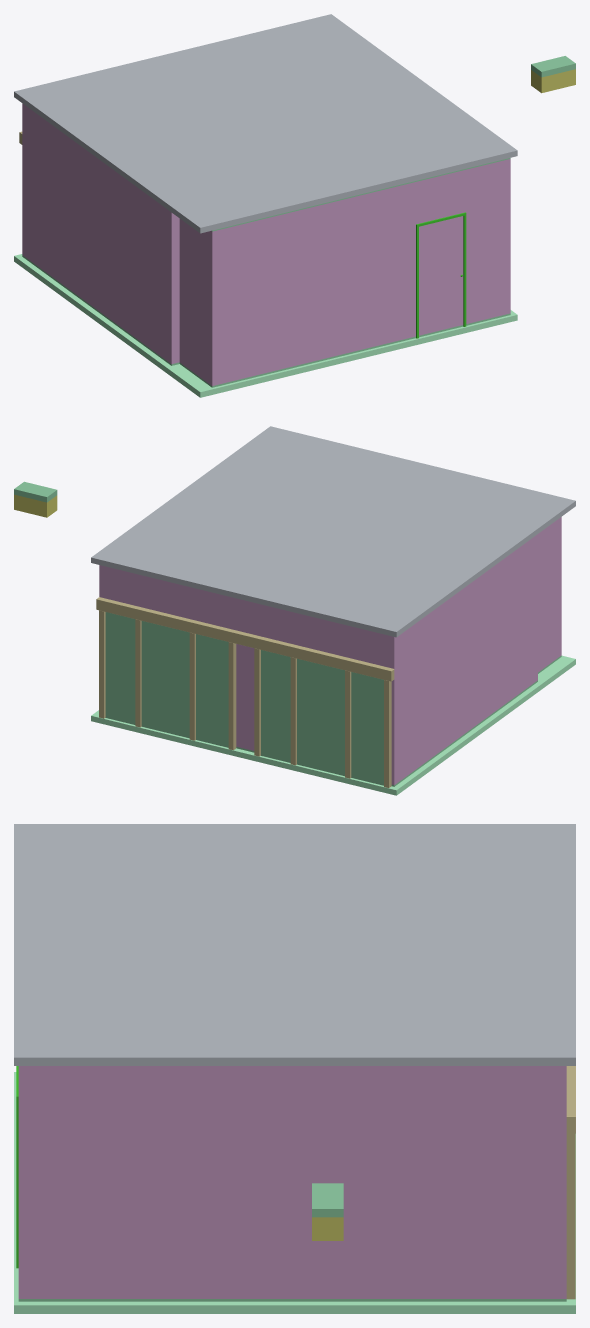
Rendered from FloorPlan10_physics.fbx.
3 renders of one model, top to bottom at view 1: azimuth 30°, elevation 25°; view 2: azimuth 150°, elevation 25°; view 3: azimuth 270°, elevation 25°, orthographic. The views are drawn at different scales.
Parts seen in each view (by area): view 1: Walls, Ceiling, Floor, StandardUpperCabinetWindow, StandardDoorFrame1; view 2: Ceiling, Walls, WindowStructure, WindowGlass5, WindowGlass2, Floor, WindowGlass1, WindowGlass4, WindowGlass6, WindowGlass3, StandardUpperCabinetWindow; view 3: Ceiling, Walls, Floor, WindowStructure, StandardUpperCabinetWindow.
Part boxes in pixels (x1=…): Walls: x1=22, y1=103, x2=510, y2=387; Ceiling: x1=14, y1=14, x2=517, y2=233; Floor: x1=14, y1=254, x2=517, y2=397; StandardUpperCabinetWindow: x1=531, y1=56, x2=575, y2=93; StandardDoorFrame1: x1=416, y1=212, x2=466, y2=338; Ceiling: x1=91, y1=426, x2=575, y2=637; Walls: x1=99, y1=517, x2=561, y2=786; WindowStructure: x1=96, y1=597, x2=394, y2=787; WindowGlass5: x1=141, y1=621, x2=189, y2=738; WindowGlass2: x1=297, y1=658, x2=344, y2=776; Floor: x1=91, y1=655, x2=575, y2=795; WindowGlass1: x1=351, y1=672, x2=383, y2=785; WindowGlass4: x1=196, y1=634, x2=228, y2=747; WindowGlass6: x1=105, y1=612, x2=135, y2=724; WindowGlass3: x1=261, y1=650, x2=290, y2=762; StandardUpperCabinetWindow: x1=14, y1=481, x2=57, y2=517; Ceiling: x1=14, y1=824, x2=575, y2=1065; Walls: x1=18, y1=1066, x2=566, y2=1301; Floor: x1=14, y1=1072, x2=575, y2=1313; WindowStructure: x1=566, y1=1066, x2=575, y2=1299; StandardUpperCabinetWindow: x1=312, y1=1183, x2=343, y2=1240.
Bounding box in the file's own units: 882 × 302 × 600.
